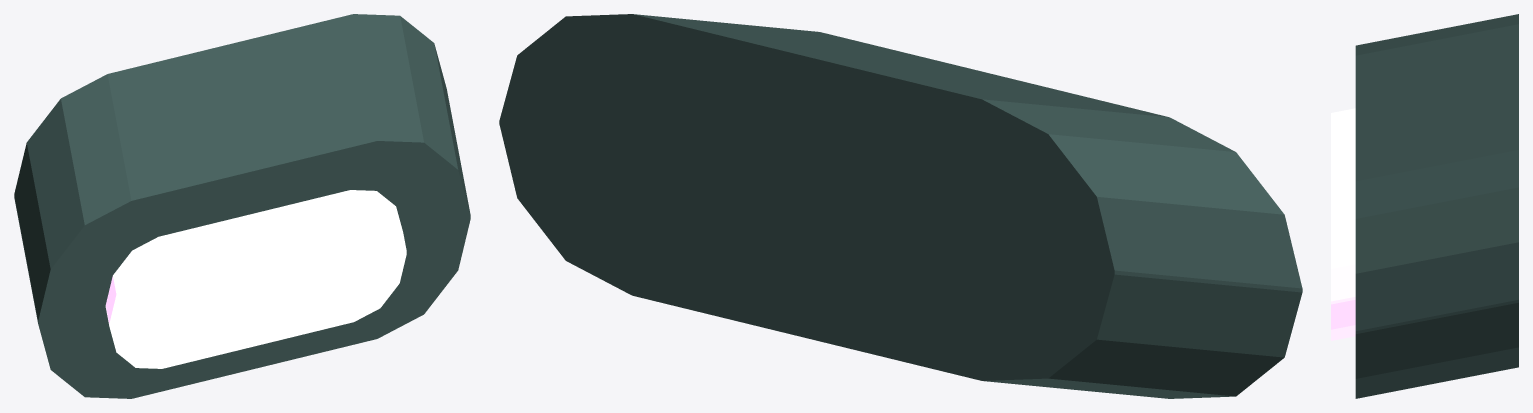
File: Signal_Lamp3D.gltf
3 views of the same model, side by side, from view 1: azimuth 30°, elevation 25°; view 2: azimuth 150°, elevation 25°; view 3: azimuth 270°, elevation 25° (orthographic). The views are drawn at different scales.
Parts seen in each view (by area): view 1: Signal_Lamp3D_baked; view 2: Signal_Lamp3D_baked; view 3: Signal_Lamp3D_baked.
Boxes of the visible parts, box(x1,y1,x2,y2) form: Signal_Lamp3D_baked: box(14, 14, 470, 398); Signal_Lamp3D_baked: box(499, 14, 1302, 398); Signal_Lamp3D_baked: box(1331, 14, 1518, 398).
Bounding box in the file's own units: 0.36 × 0.18 × 0.115.
